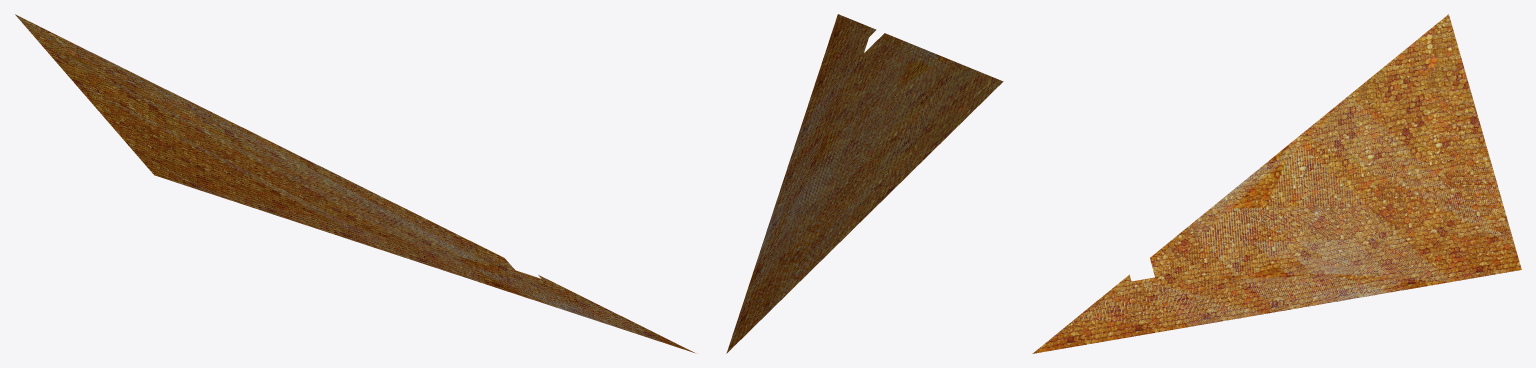
The model's file is 西庸城堡466.dae.
3 renders of one model, left to right at view 1: azimuth 30°, elevation 25°; view 2: azimuth 150°, elevation 25°; view 3: azimuth 270°, elevation 25°, orthographic. The views are drawn at different scales.
Visible parts, largest first — view 1: SketchUp; view 2: SketchUp; view 3: SketchUp.
Boxes of the visible parts, box(x1,y1,x2,y2) form: SketchUp: box(15, 14, 695, 353); SketchUp: box(726, 14, 1003, 353); SketchUp: box(1032, 14, 1521, 353).
Bounding box in the file's own units: 510 × 684 × 286.
